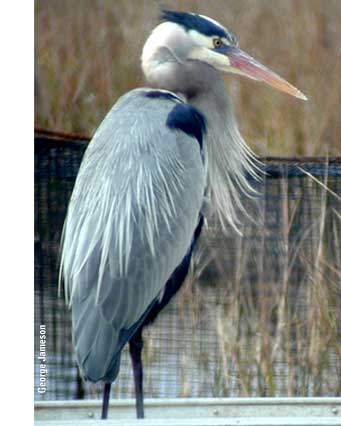heron: (68, 7, 313, 413)
